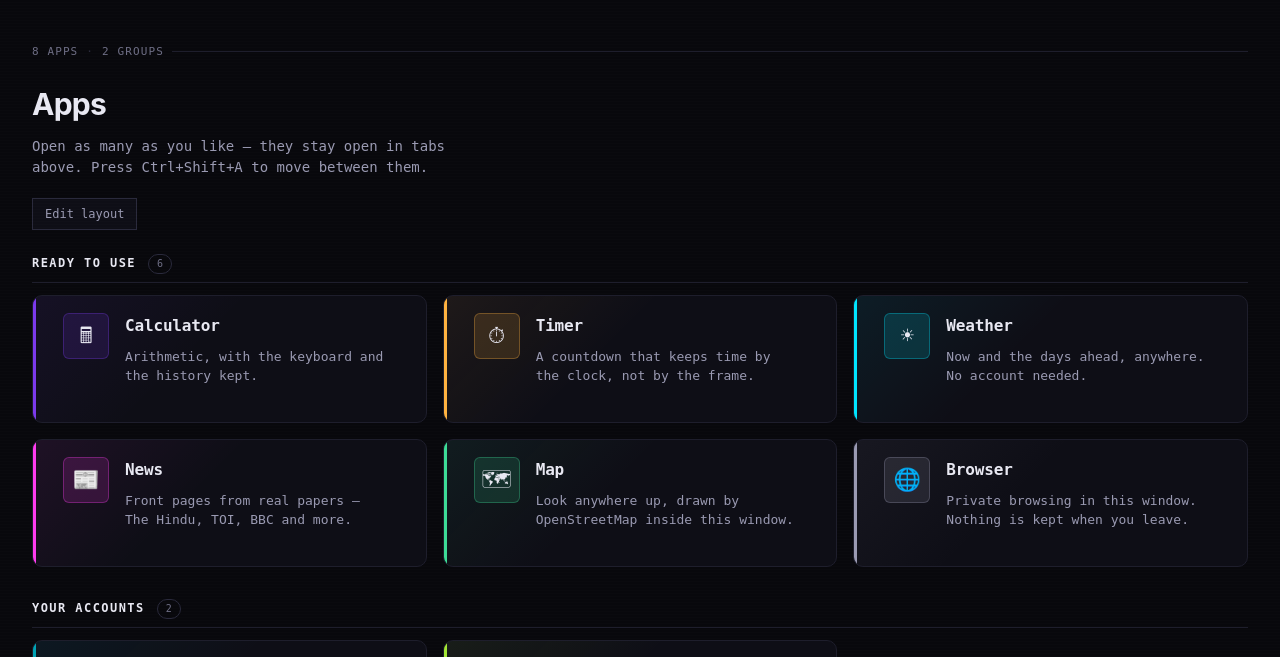
Apps › the layout editor › offers every operation once editing
The width and height of the screenshot is (1280, 657).
Click the button "Edit layout".
click(85, 214)  # box [32,198,138,230]
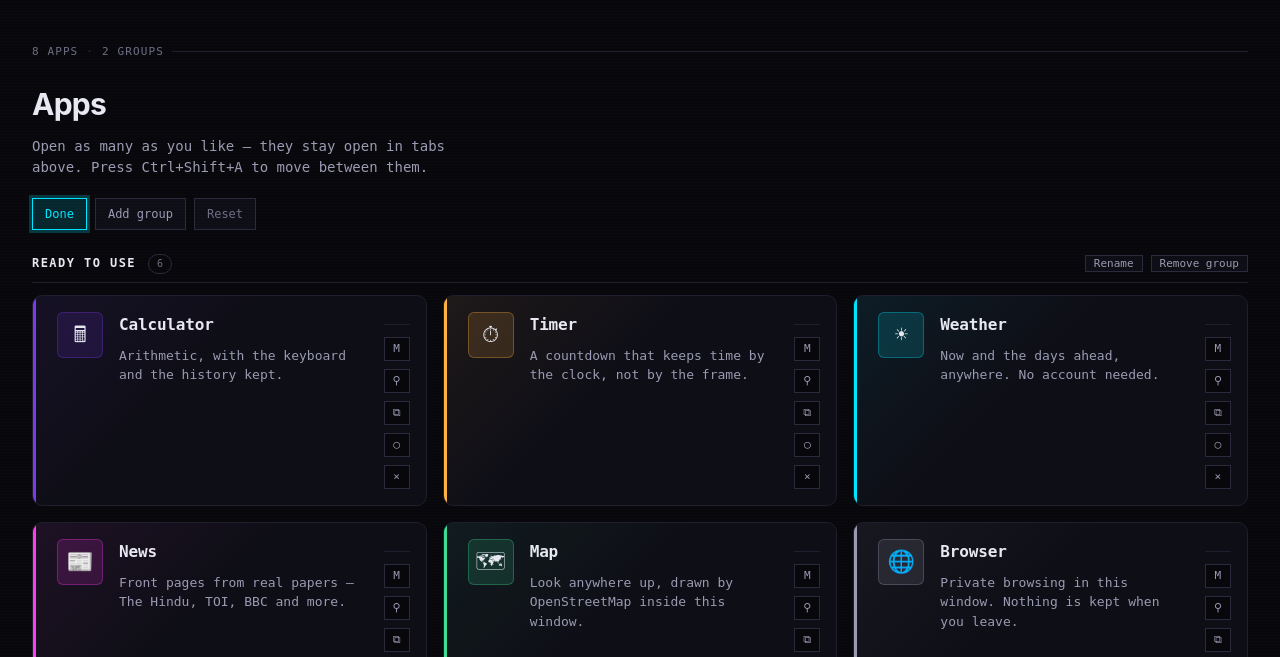
Now the button named "pin" is shown, box [384,369,410,393]
Now the button named "hide" is shown, box [384,433,410,457]
Now the button named "duplicate" is shown, box [384,401,410,425]
